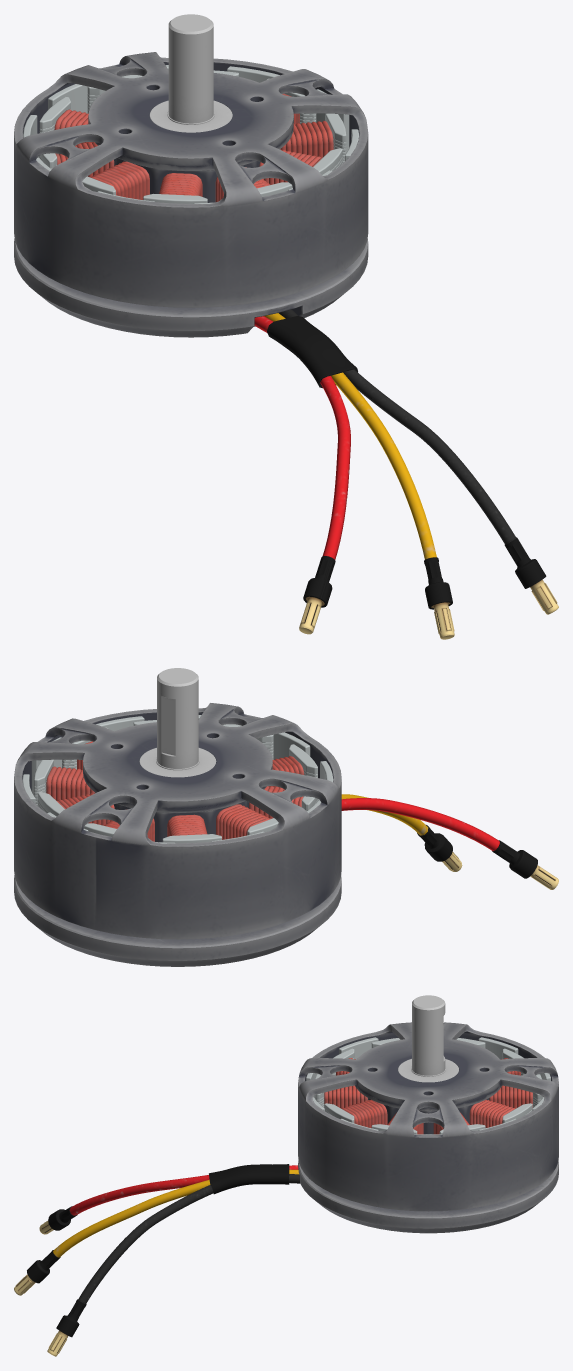
Rendered from motor.glb.
3 renders of one model, top to bottom at view 1: azimuth 30°, elevation 25°; view 2: azimuth 150°, elevation 25°; view 3: azimuth 270°, elevation 25°, orthographic. The views are drawn at different scales.
Visible parts, largest first — view 1: Cylinder_008, polySurface9, Cylinder_011, Cube_002, Cube_008, polySurface11, polySurface27 (×3), polySurface12, BezierCurve_003, polySurface10, Cube_005; view 2: Cylinder_008, polySurface9, Cylinder_011, Cube_002, Cube_008, polySurface10, Cube_005, polySurface27 (×2), polySurface12, polySurface26; view 3: Cylinder_008, polySurface9, Cube_002, Cylinder_011, polySurface11, Cube_008, polySurface12, BezierCurve_003, polySurface10, Cube_005, polySurface27 (×2).
Boxes of the visible parts, box(x1,y1,x2,y2) form: Cylinder_008: box(14, 52, 368, 307); polySurface9: box(14, 158, 368, 337); Cylinder_011: box(149, 14, 232, 132); Cube_002: box(54, 93, 333, 201); Cube_008: box(37, 70, 346, 203); polySurface11: box(279, 309, 516, 544); polySurface27 (×3): box(303, 537, 546, 631); polySurface12: box(264, 313, 436, 559); BezierCurve_003: box(267, 316, 357, 388); polySurface10: box(254, 316, 350, 559); Cube_005: box(23, 65, 358, 203); Cylinder_008: box(14, 703, 341, 939); polySurface9: box(14, 801, 341, 966); Cylinder_011: box(139, 668, 216, 777); Cube_002: box(46, 741, 304, 841); Cube_008: box(34, 720, 319, 843); polySurface10: box(341, 798, 499, 850); Cube_005: box(22, 715, 333, 843); polySurface27 (×2): box(417, 825, 554, 885); polySurface12: box(341, 794, 428, 835); polySurface26: box(530, 865, 558, 889); Cylinder_008: box(298, 1022, 558, 1211); polySurface9: box(298, 1098, 558, 1233); Cube_002: box(324, 1058, 532, 1134); Cylinder_011: box(398, 995, 458, 1082); polySurface11: box(78, 1174, 300, 1303); Cube_008: box(314, 1038, 542, 1134); polySurface12: box(53, 1169, 298, 1257); BezierCurve_003: box(209, 1164, 289, 1194); polySurface10: box(69, 1165, 298, 1215); Cube_005: box(306, 1037, 550, 1134); polySurface27 (×2): box(16, 1250, 86, 1352).
Size of the model in its own units: 0.1601 by 0.2146 by 0.3344.
1 material, 1 textured.
